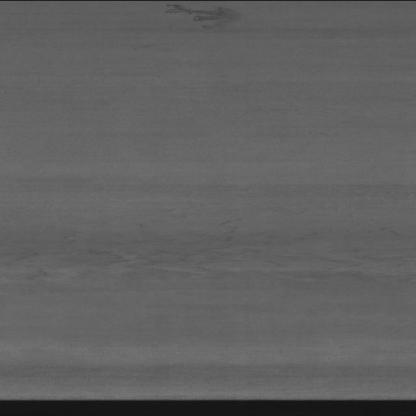silk_spot: (68, 212, 366, 300)
water_spot: (155, 3, 252, 39)
